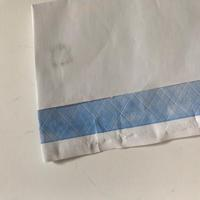paper: (25, 2, 200, 163)
